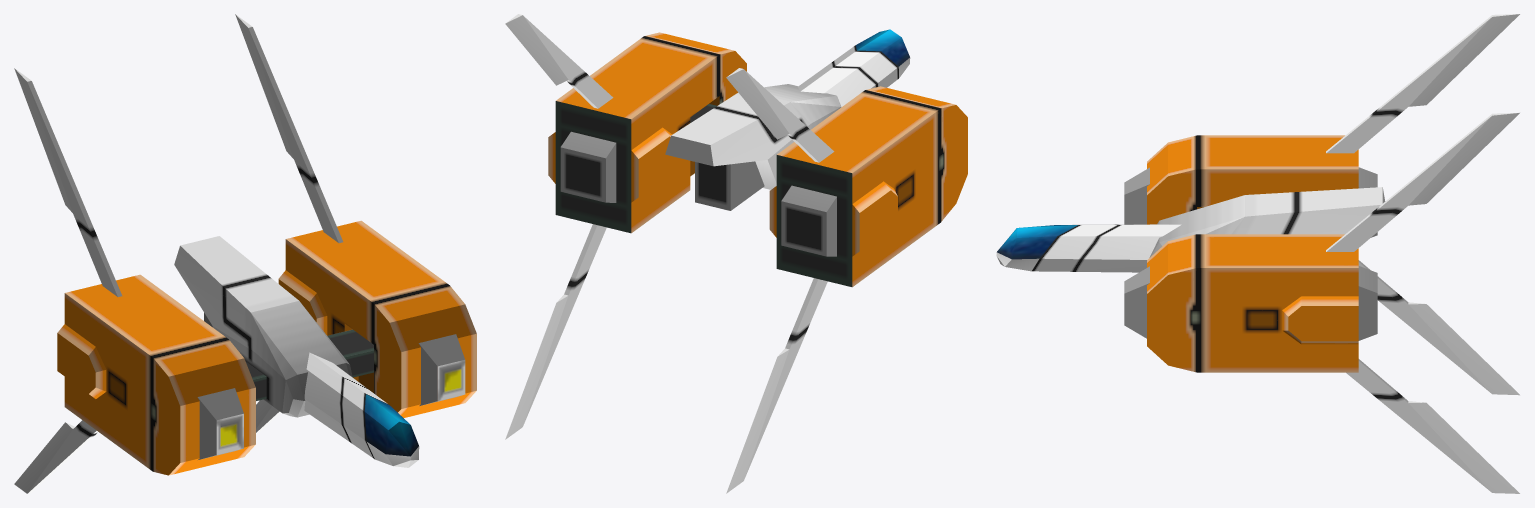
Rendered from SS_ICON0.ICO.obj.
3 views of the same model, side by side, from view 1: azimuth 30°, elevation 25°; view 2: azimuth 150°, elevation 25°; view 3: azimuth 270°, elevation 25° (orthographic). The views are drawn at different scales.
Size of the model in its own units: 2.31 by 2.96 by 3.68.
1 material, 1 textured.
